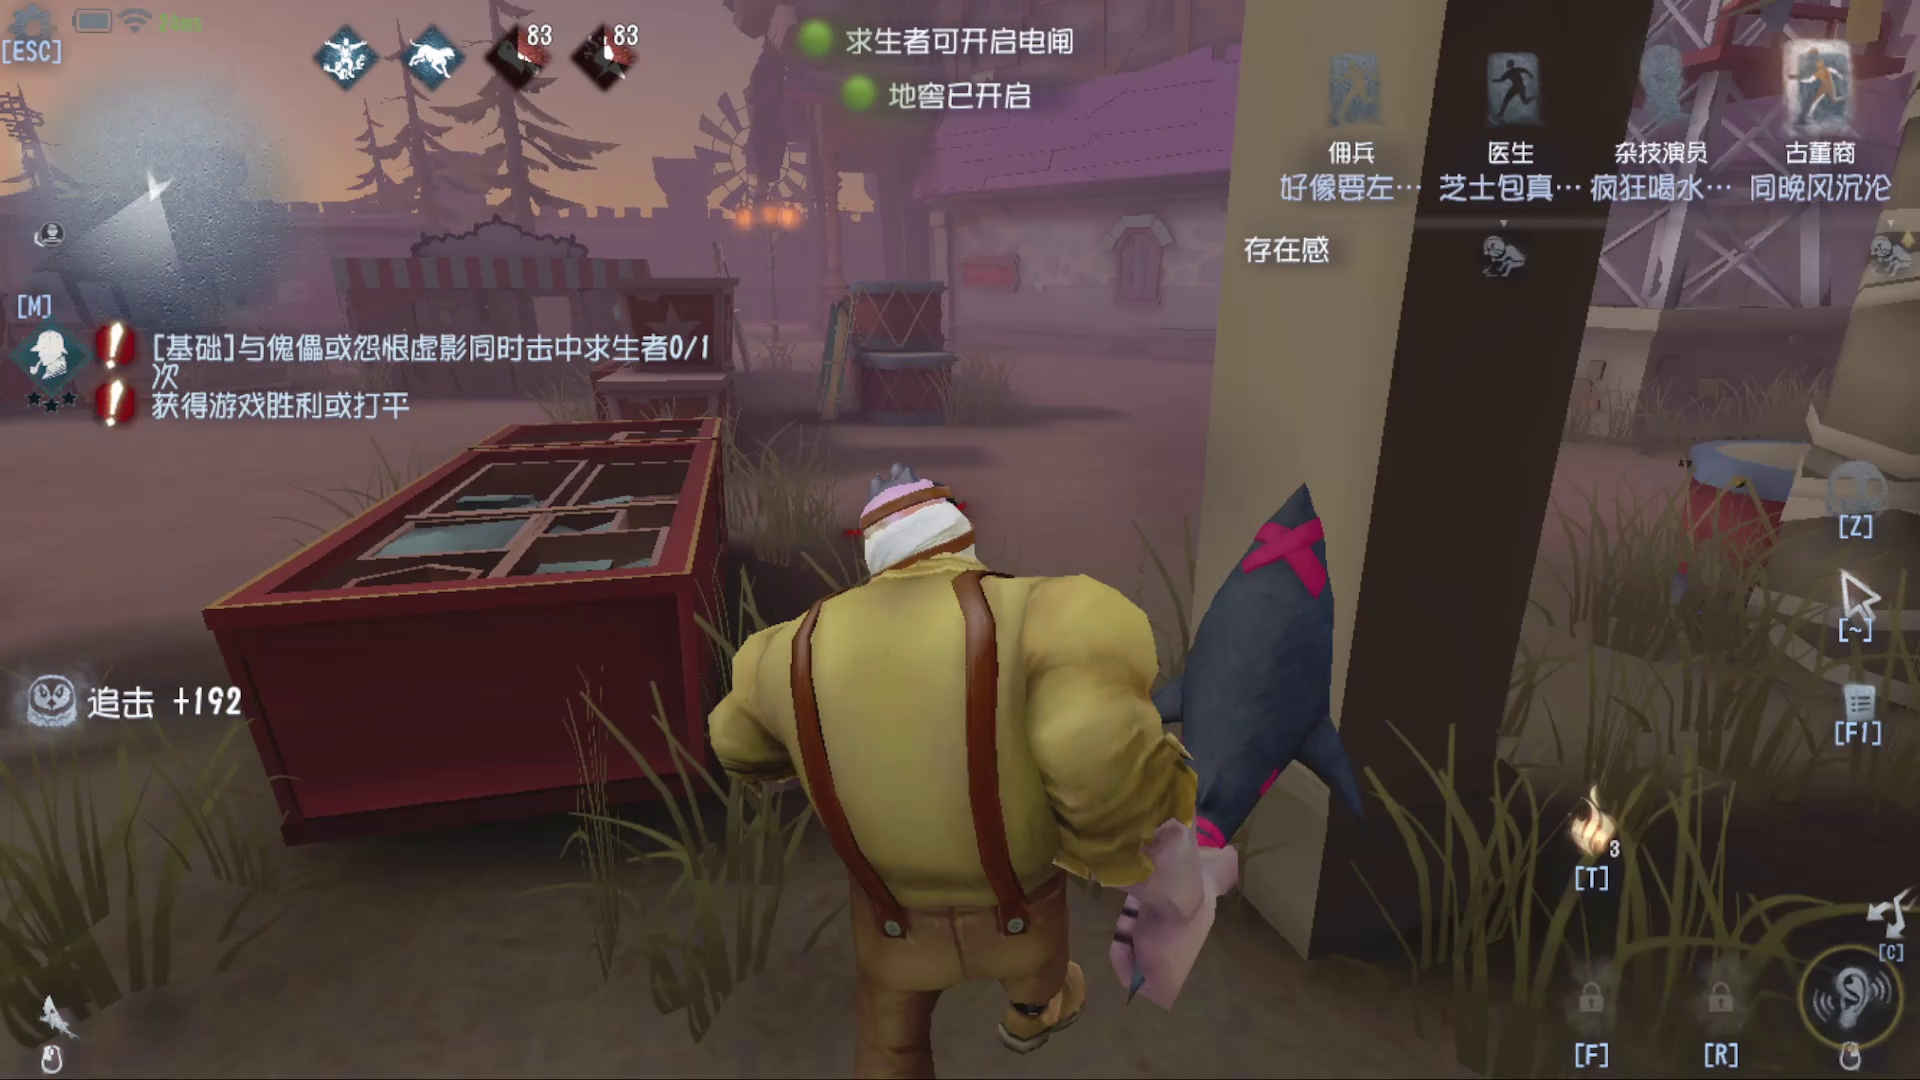技能: (798, 299, 878, 425)
